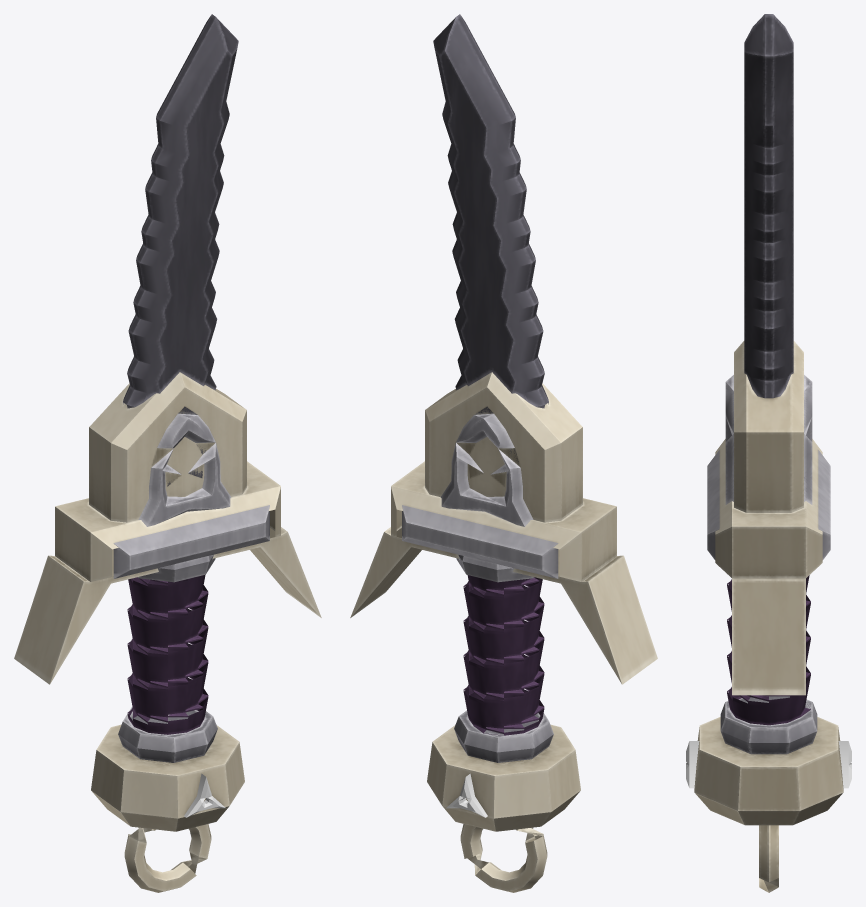
The model's file is Whisperfang.fbx.
The picture shows the model from 3 angles, left to right: view 1: azimuth 30°, elevation 25°; view 2: azimuth 150°, elevation 25°; view 3: azimuth 270°, elevation 25°; orthographic projection. The views are drawn at different scales.
Parts seen in each view (by area): view 1: Whisperfang_Body, Whisperfang_Glow; view 2: Whisperfang_Body, Whisperfang_Glow; view 3: Whisperfang_Body, Whisperfang_Glow.
Boxes of the visible parts, left/top/right/bottom form: Whisperfang_Body: left=14, top=14, right=321, bottom=892; Whisperfang_Glow: left=184, top=773, right=225, bottom=817; Whisperfang_Body: left=350, top=14, right=657, bottom=892; Whisperfang_Glow: left=446, top=773, right=487, bottom=817; Whisperfang_Body: left=694, top=14, right=843, bottom=892; Whisperfang_Glow: left=686, top=741, right=851, bottom=788.
Bounding box in the file's own units: 0.792 × 2.4 × 0.4022.
